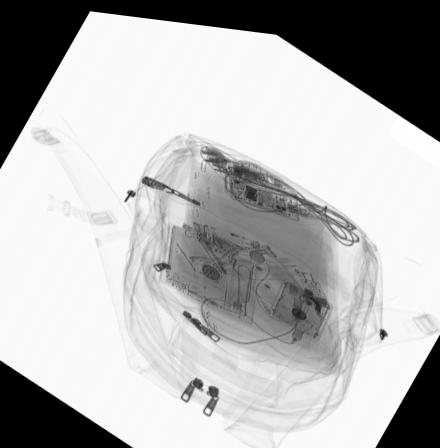Lighter: (195, 215, 259, 244)
